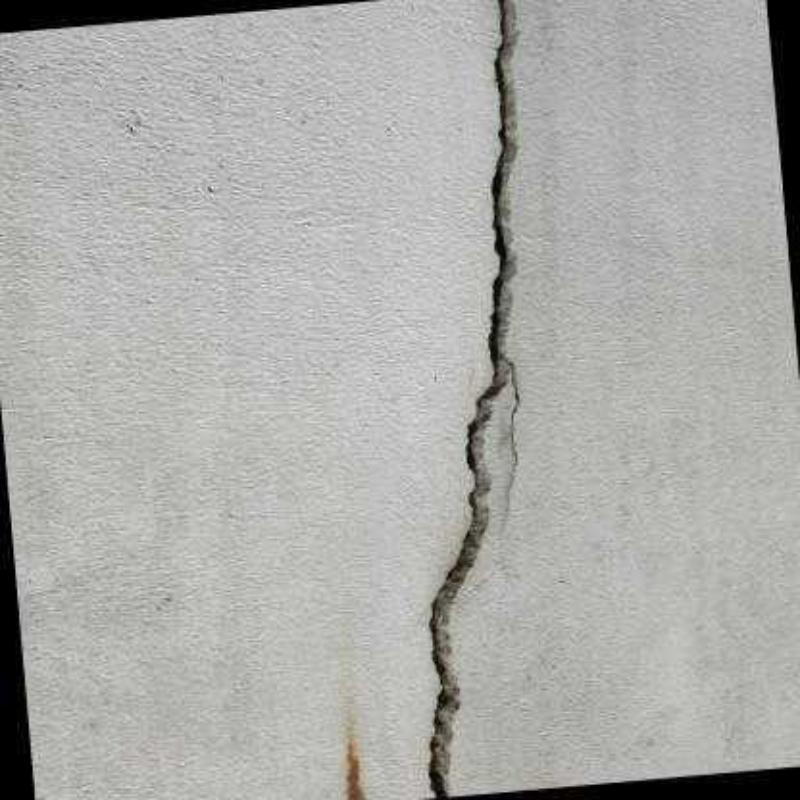crack: (427, 0, 520, 798)
